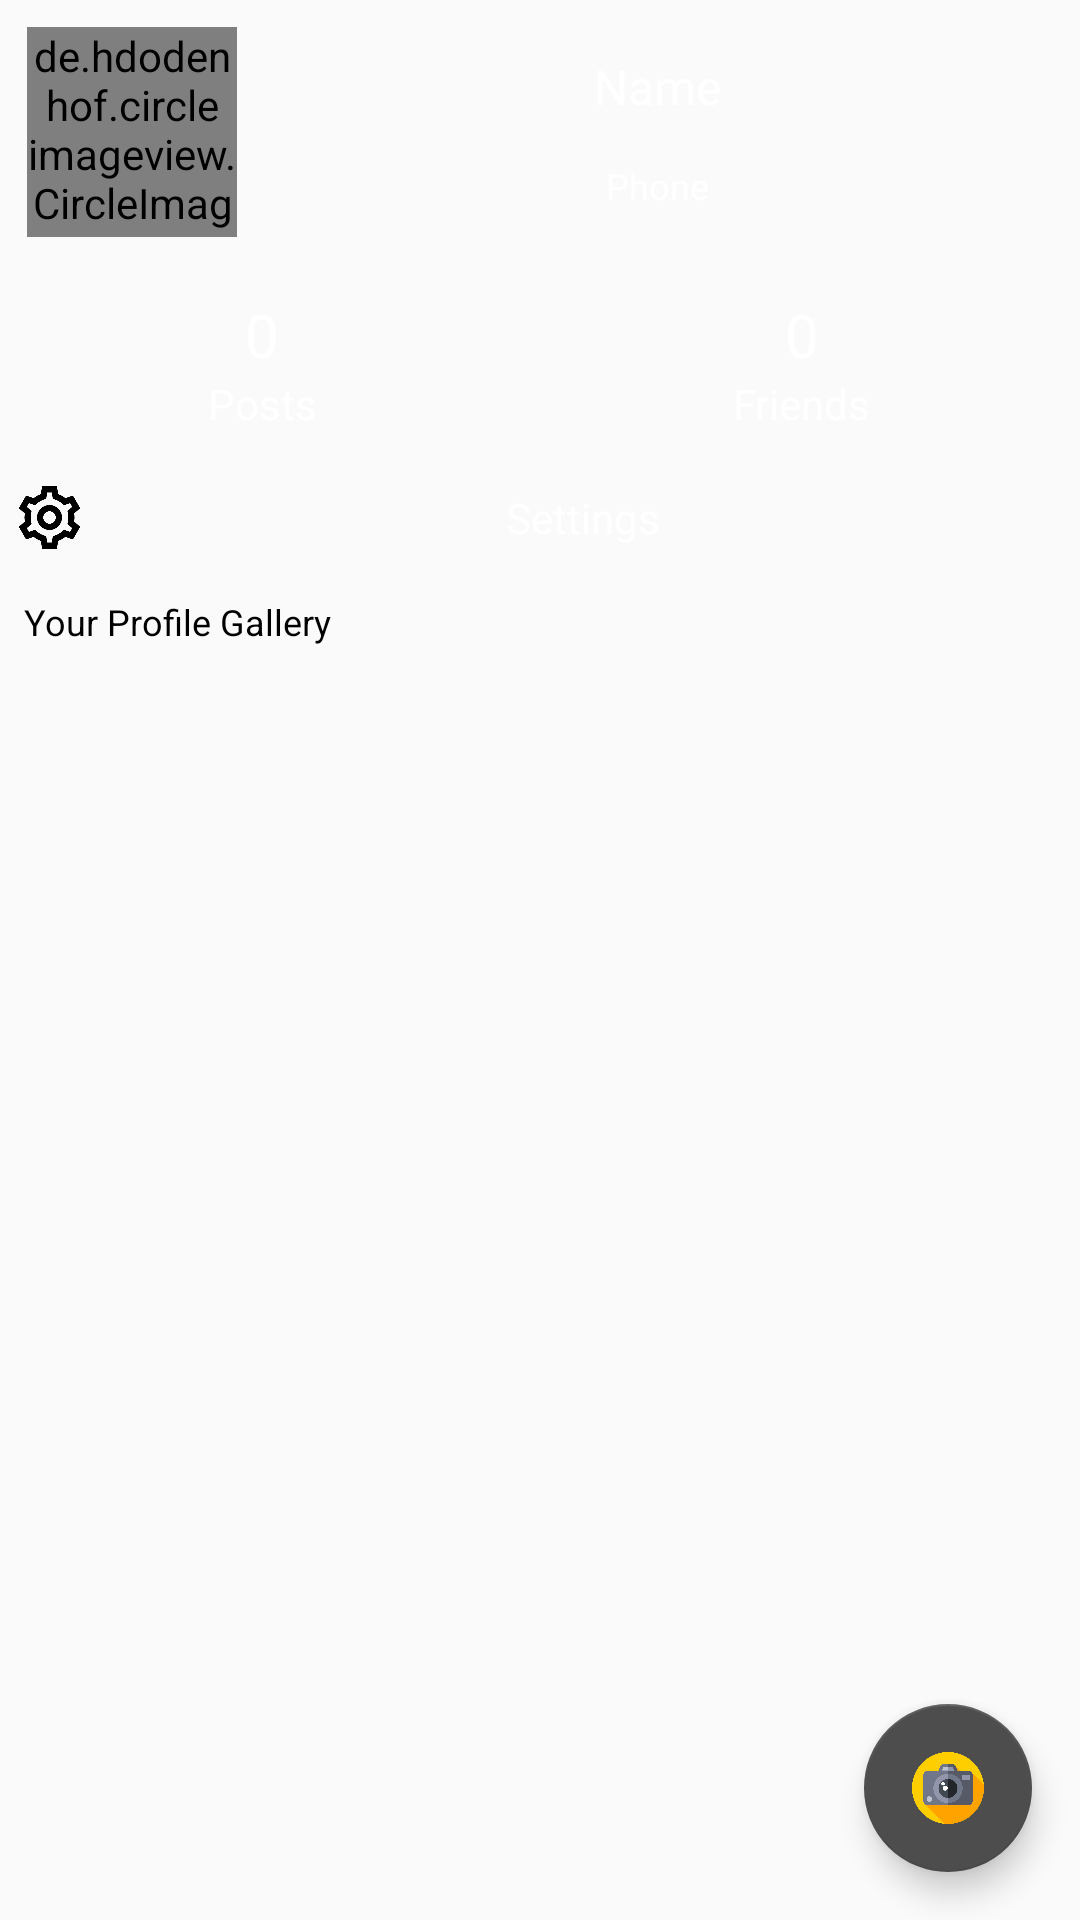

Where to tap for icons on this 1080*1920 app screen, as [x,y]:
photoedit: [948,1788]
